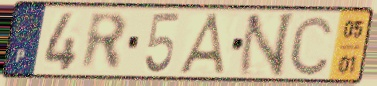4: (42, 10, 79, 73)
5: (143, 11, 182, 75)
A: (175, 11, 230, 78)
C: (287, 13, 336, 78)
N: (234, 10, 298, 79)
R: (79, 10, 130, 73)
